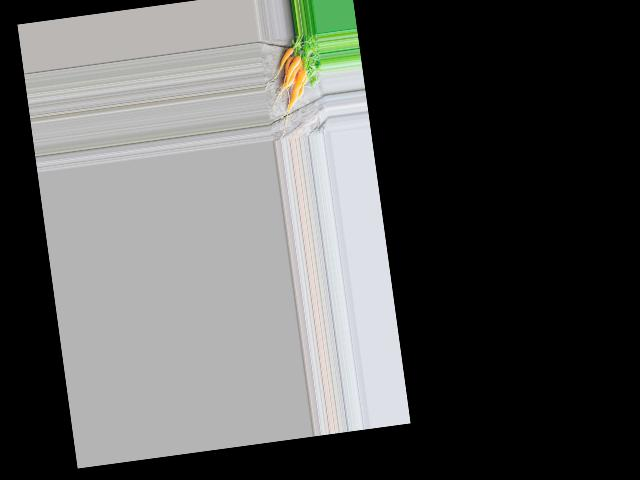carrot: (284, 64, 311, 106)
